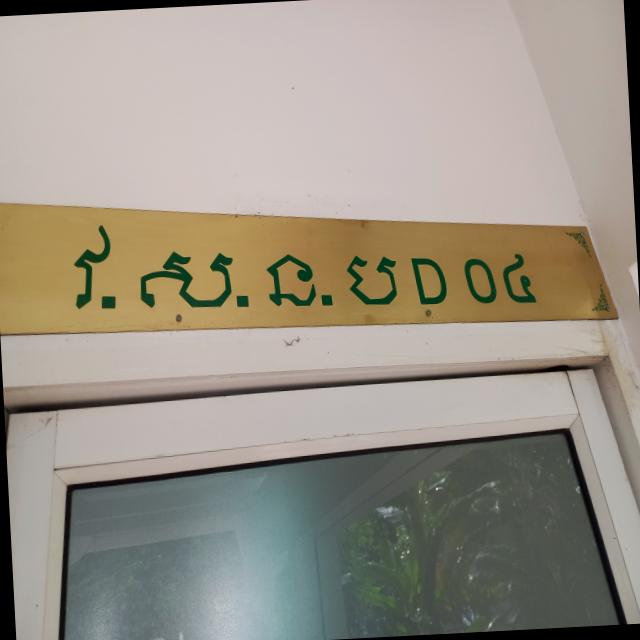Yolov11_80vkh: (61, 209, 405, 321), (455, 240, 544, 309)
